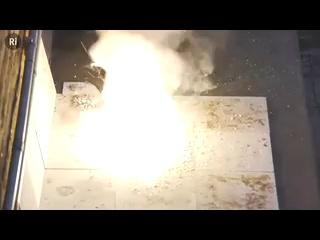Fire: (82, 63, 234, 183)
